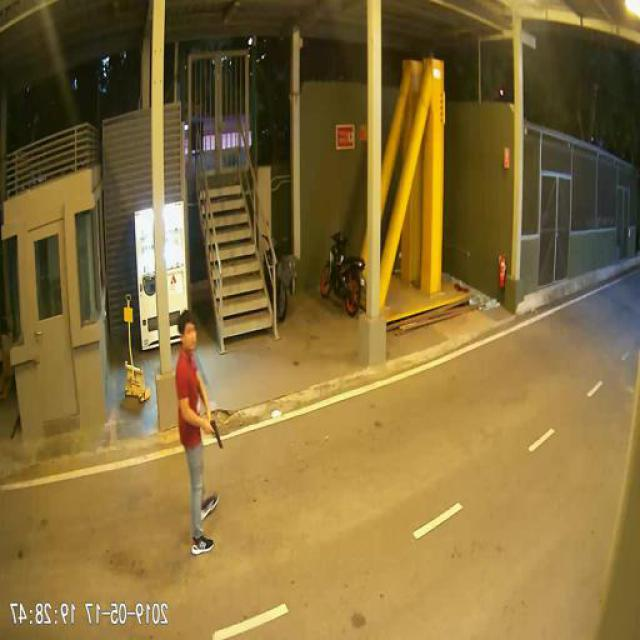Gun: (210, 414, 224, 445)
